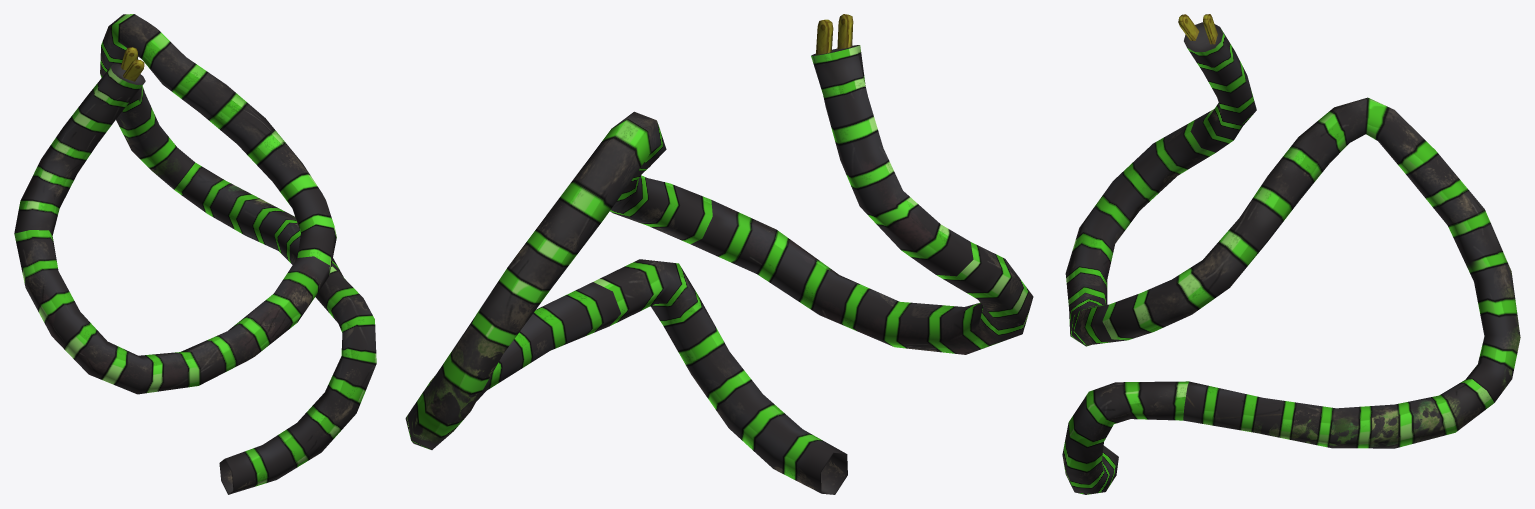
The model's file is Tentacles_House.fbx.
3 views of the same model, side by side, from view 1: azimuth 30°, elevation 25°; view 2: azimuth 150°, elevation 25°; view 3: azimuth 270°, elevation 25° (orthographic). The views are drawn at different scales.
Visible parts, largest first — view 1: Tentacles_House_Mesh; view 2: Tentacles_House_Mesh; view 3: Tentacles_House_Mesh.
Boxes of the visible parts, x1,y1,x2,y2 form: Tentacles_House_Mesh: (14,14,376,494); Tentacles_House_Mesh: (405,14,1033,494); Tentacles_House_Mesh: (1062,14,1520,494).
Bounding box in the file's own units: 1074 × 1197 × 1119.
Materials: 1 (1 with a texture image).
